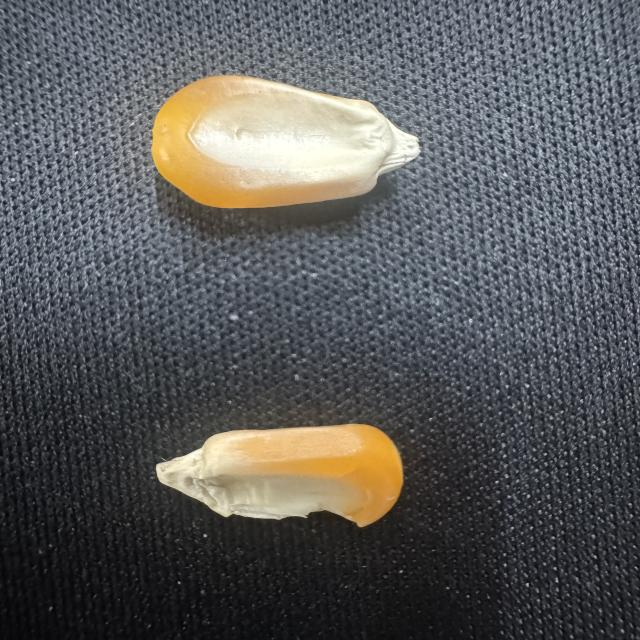Bad-Seed: (146, 419, 418, 538)
Good-Seed: (142, 69, 433, 215)
